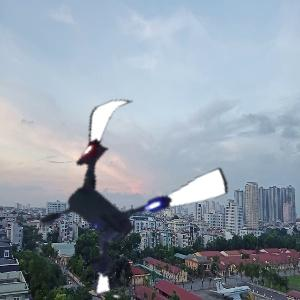drone: (22, 90, 227, 295)
